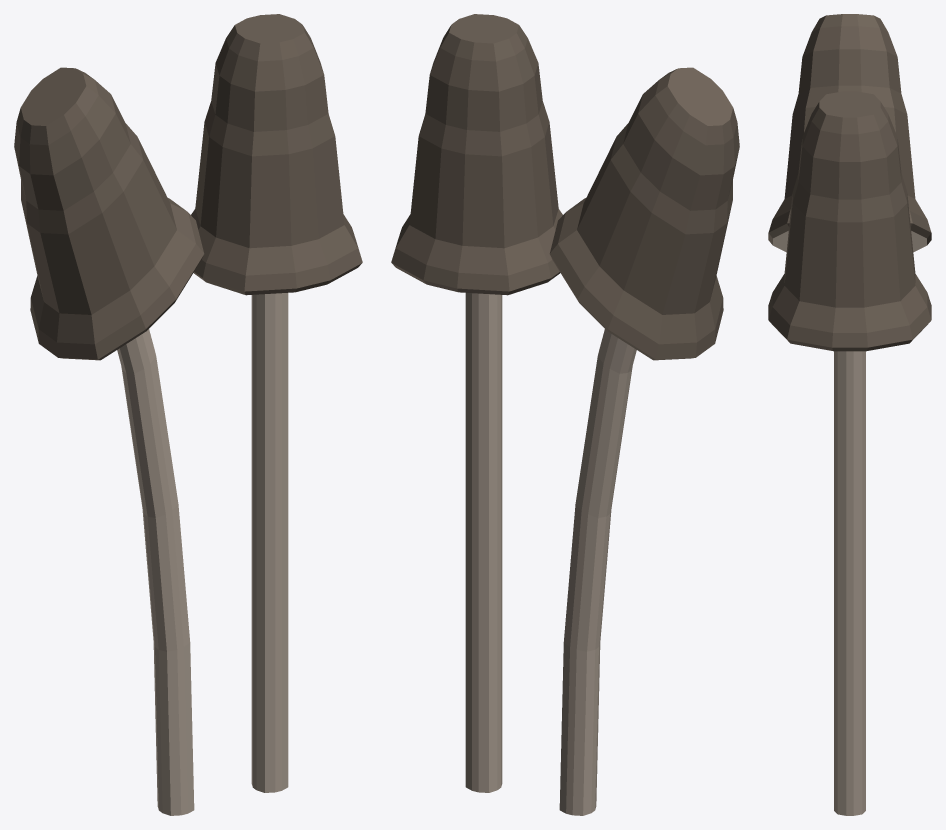
File: Mushroom4.fbx
3 renders of one model, left to right at view 1: azimuth 30°, elevation 25°; view 2: azimuth 150°, elevation 25°; view 3: azimuth 270°, elevation 25°, orthographic. The views are drawn at different scales.
Visible parts, largest first — view 1: Mushroom4; view 2: Mushroom4; view 3: Mushroom4.
Part boxes in pixels (x1,y1,x2,y2): Mushroom4: [14, 14, 362, 815]; Mushroom4: [391, 14, 739, 815]; Mushroom4: [768, 14, 931, 815].
Size of the model in its own units: 101 by 227 by 47.37.
